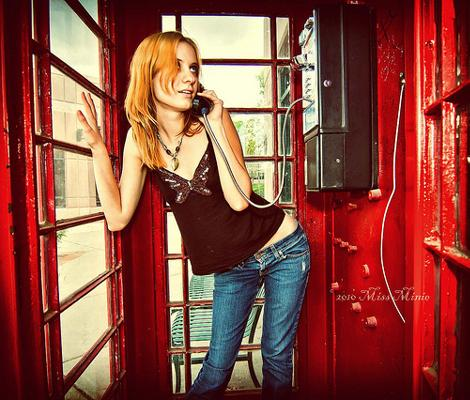person: (80, 32, 309, 399)
